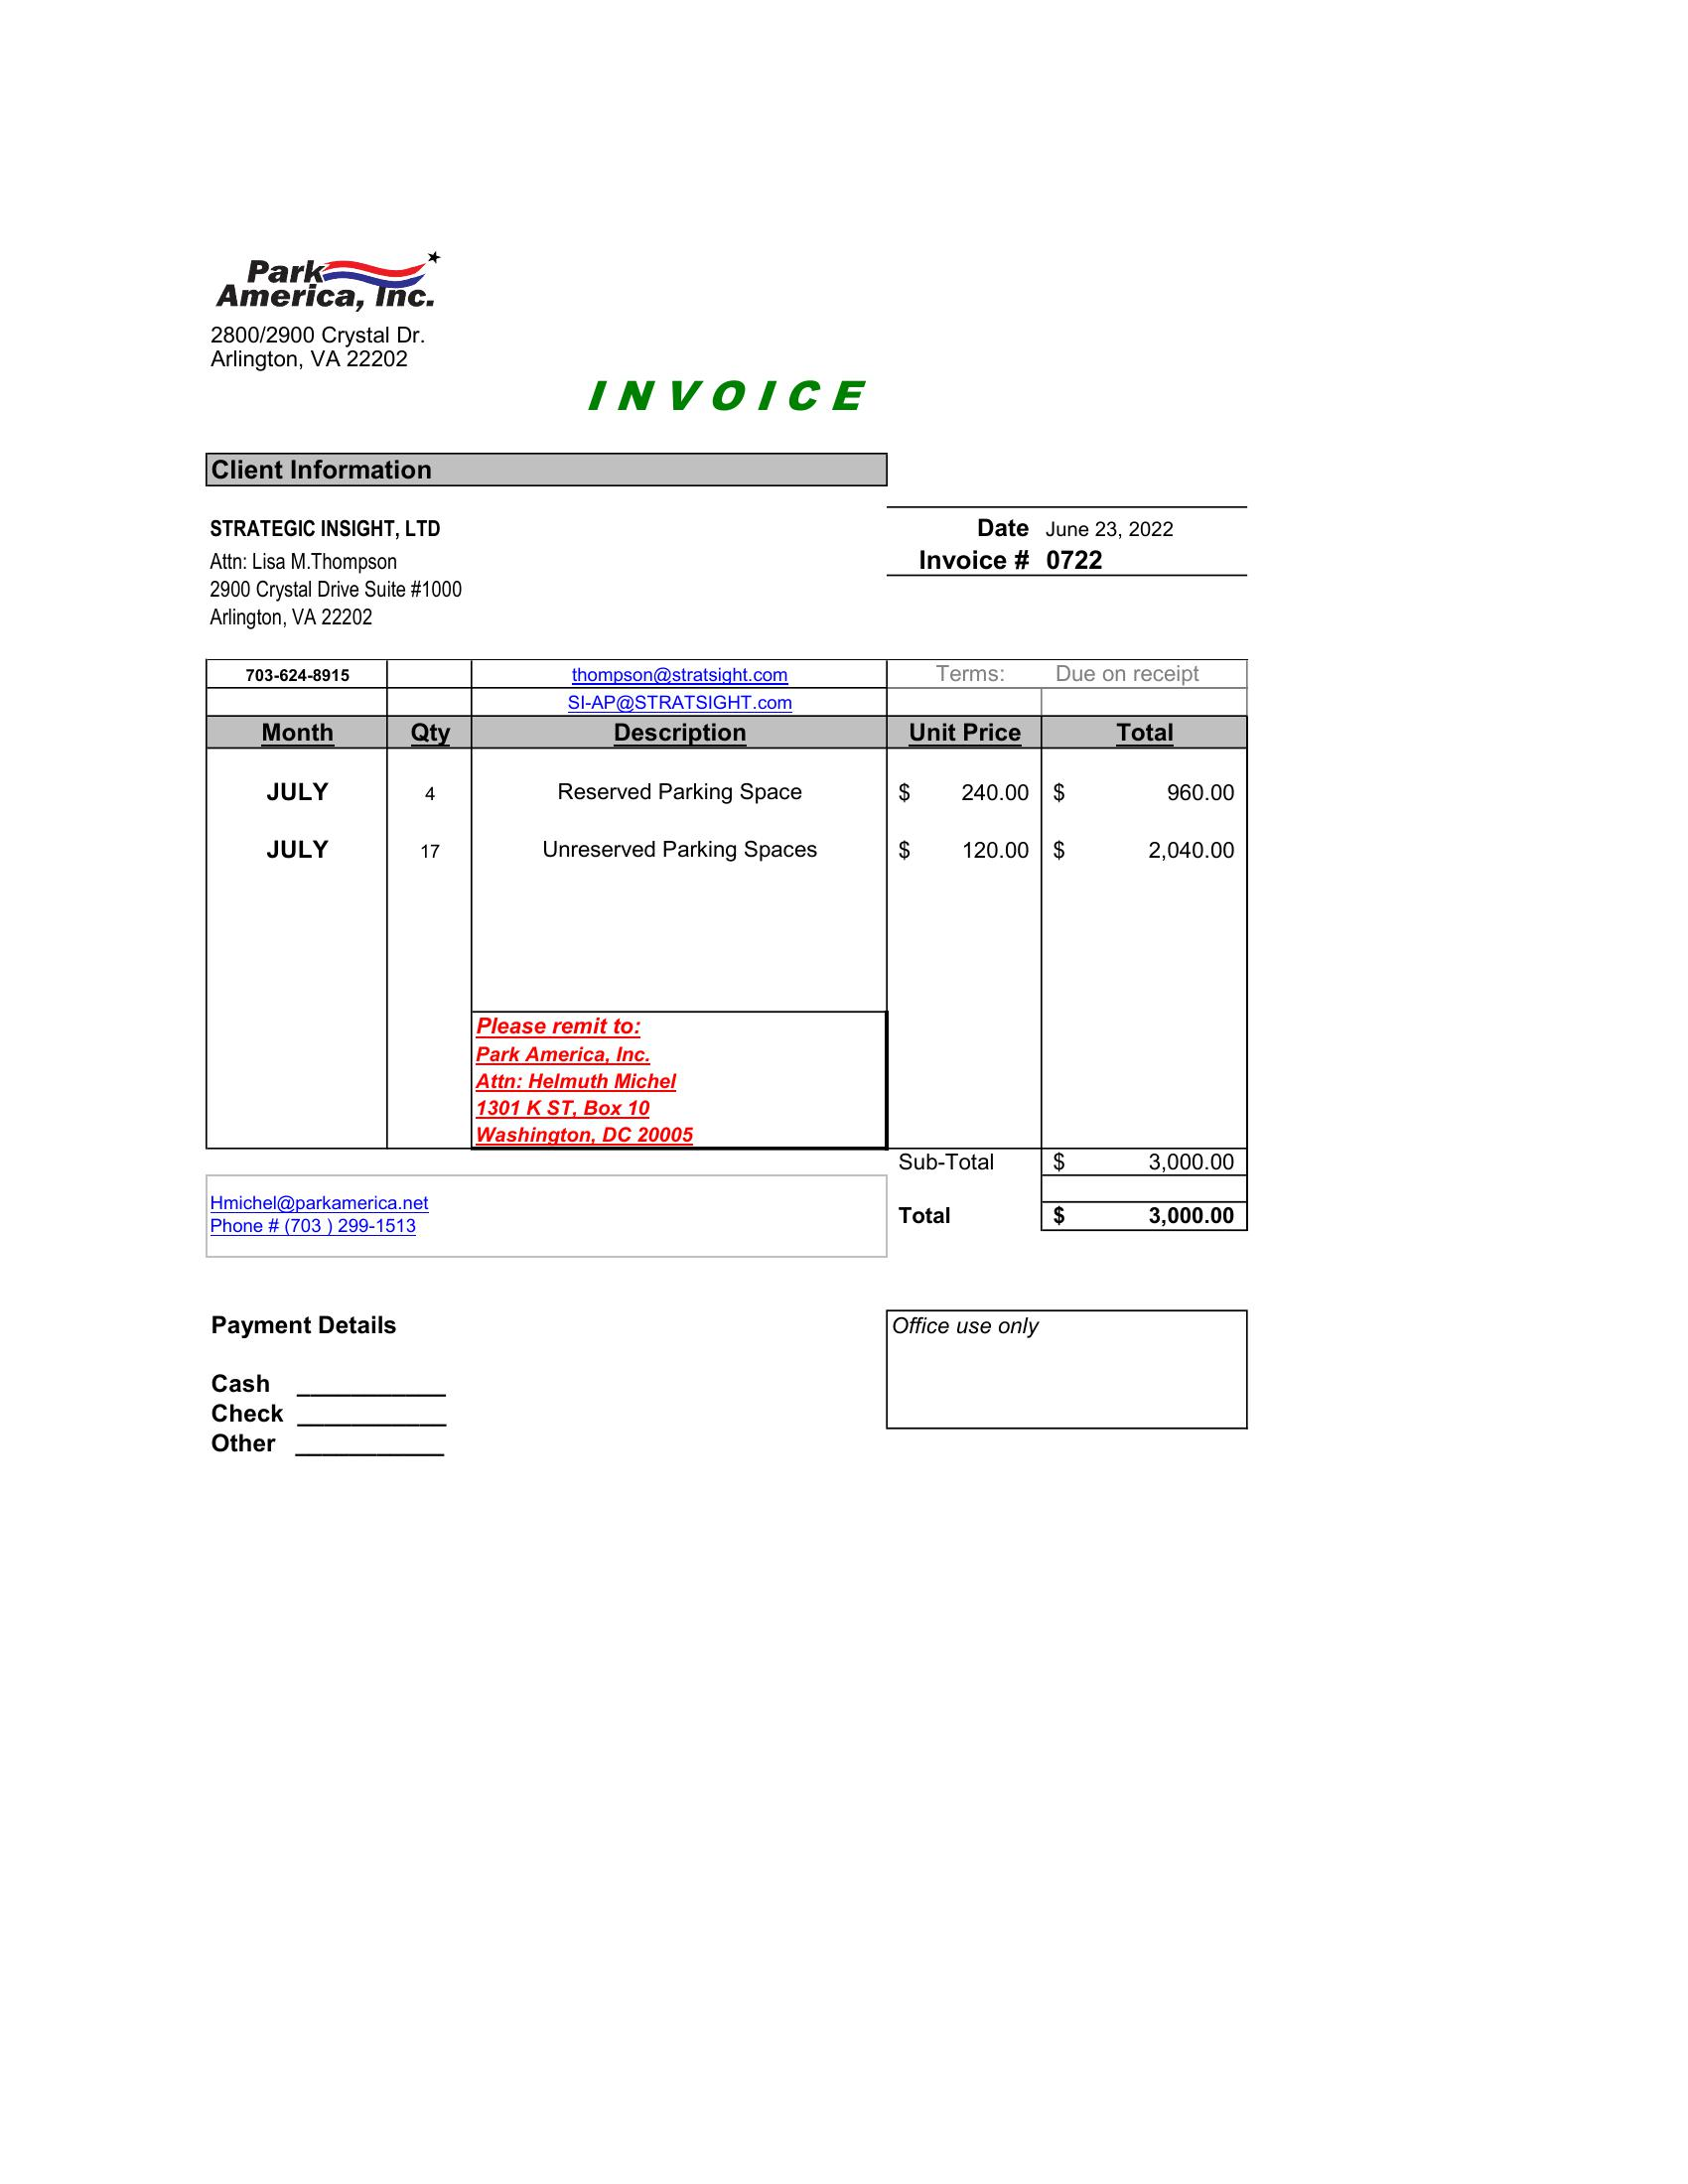table: (204, 713, 1262, 1152)
